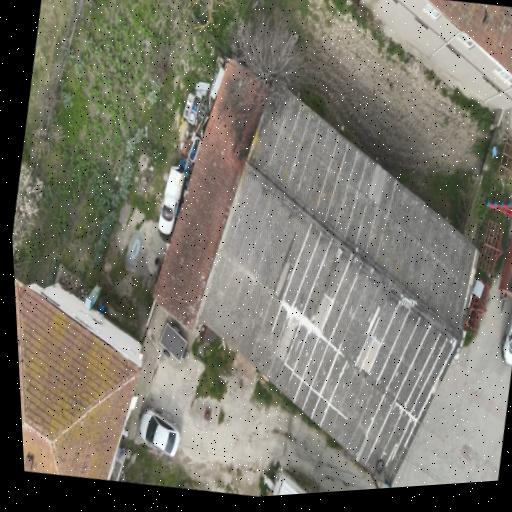bus: (502, 312, 512, 365)
car: (139, 409, 179, 457)
truck: (157, 167, 184, 235)
